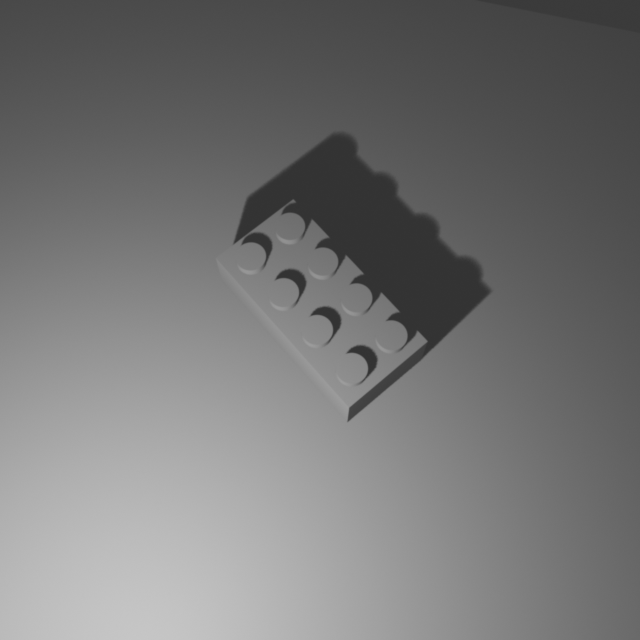lego_2x4: (215, 195, 429, 423)
